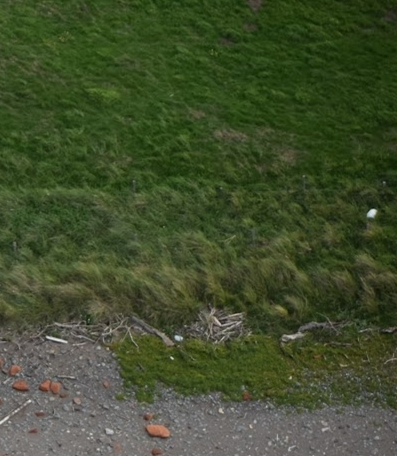scattered_barrel: (3, 352, 179, 442)
white_in_green: (342, 187, 396, 235)
